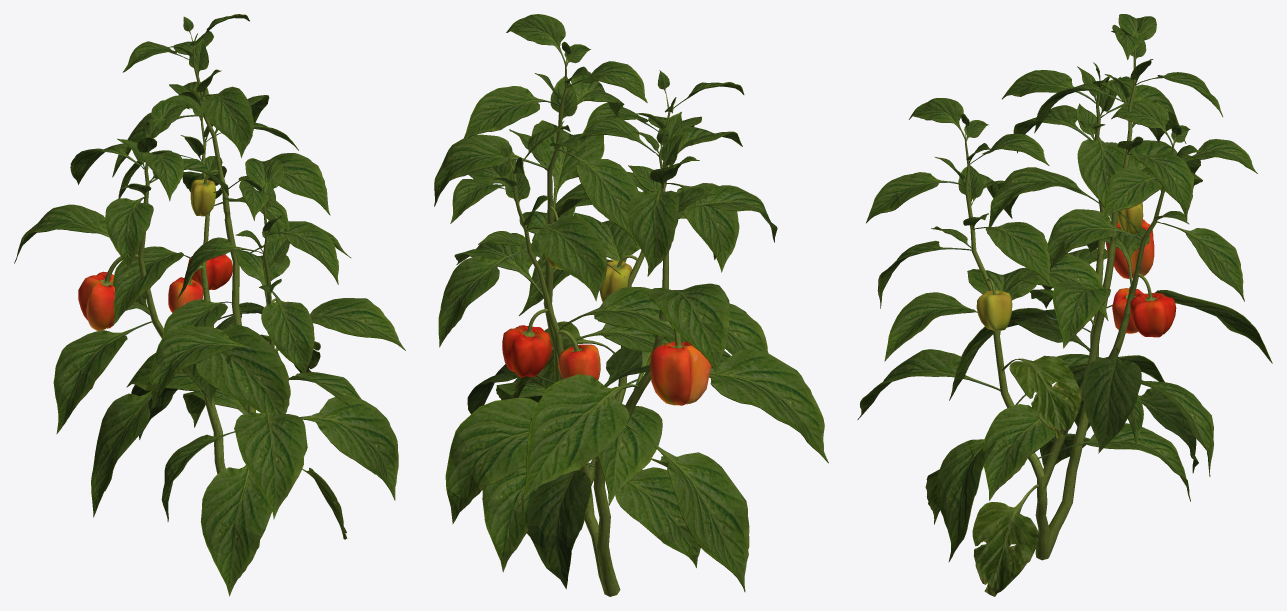
3 views of the same model, side by side, from view 1: azimuth 30°, elevation 25°; view 2: azimuth 150°, elevation 25°; view 3: azimuth 270°, elevation 25° (orthographic). The views are drawn at different scales.
Visible parts, largest first — view 1: VG07_017; view 2: VG07_017; view 3: VG07_017.
Boxes of the visible parts, x1,y1,x2,y2 form: VG07_017: (14,14,405,596); VG07_017: (434,14,828,596); VG07_017: (857,14,1272,596).
Bounding box in the file's own units: 0.5292 × 0.5767 × 0.8279.
7 materials, 7 textured.
